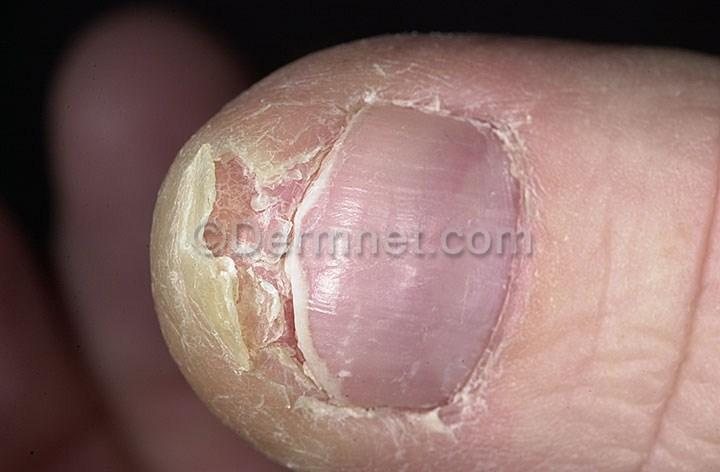Eczema: (155, 196, 244, 316), (215, 108, 326, 182), (516, 156, 584, 269), (248, 286, 310, 391), (244, 177, 298, 288), (485, 59, 544, 154), (544, 76, 601, 170), (256, 84, 348, 141), (278, 397, 354, 464), (159, 315, 247, 365), (428, 57, 484, 122), (356, 410, 415, 470), (423, 411, 480, 472), (456, 360, 512, 418), (283, 67, 361, 106), (189, 136, 231, 203), (360, 62, 426, 104), (511, 272, 551, 340), (486, 403, 525, 471), (427, 34, 513, 59), (496, 338, 524, 413), (514, 39, 574, 72), (231, 390, 272, 438), (189, 369, 249, 397), (319, 47, 372, 67), (375, 39, 433, 55)
